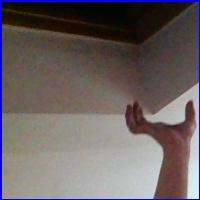space: (118, 94, 198, 148)
